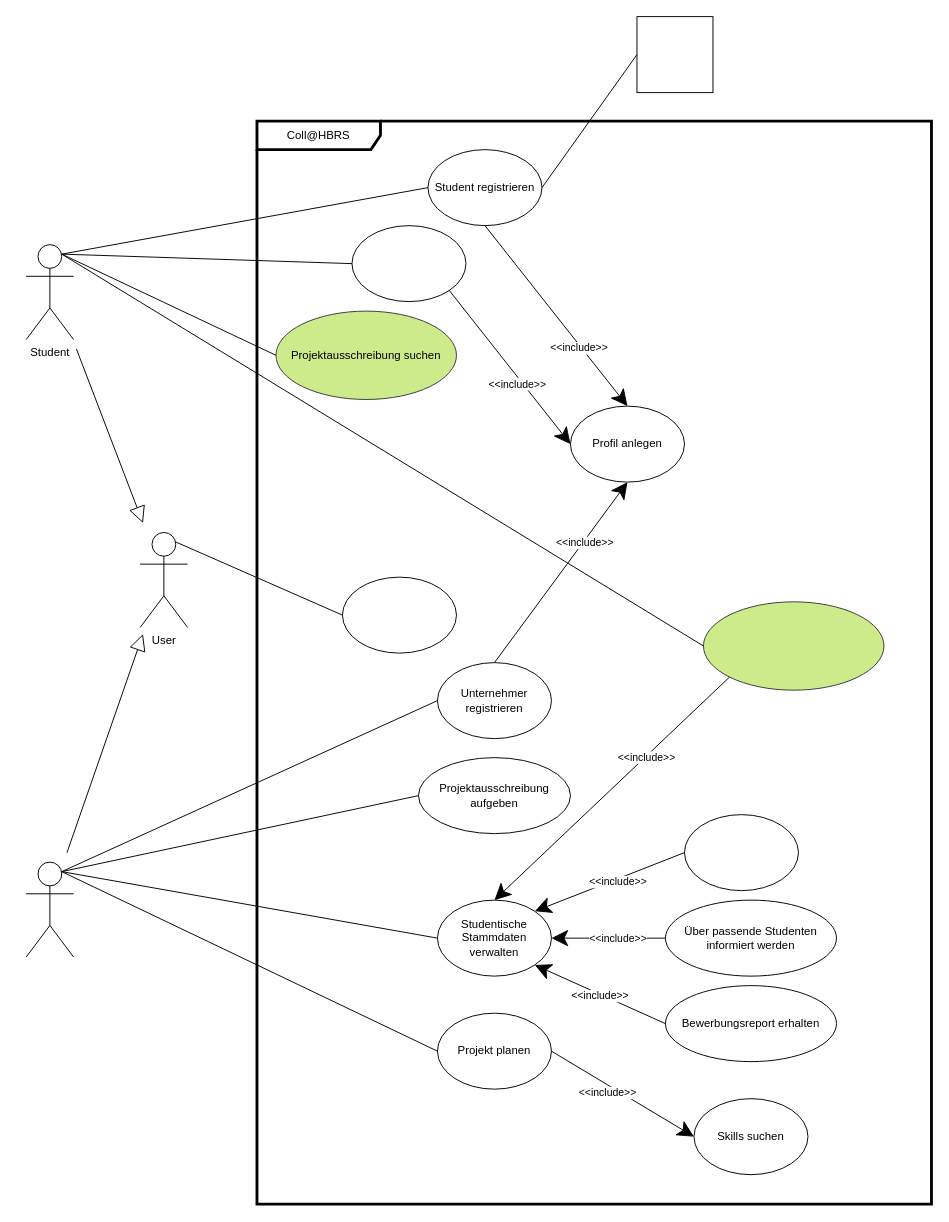
This 949x1222 diagram has some shape labels left out. Here are the shapes that lost their labels. From the top down, the centre of each, then its label:
At (x=674, y=54): "SIS".
At (x=408, y=263): "Skills verwalten".
At (x=399, y=614): "Benutzer anmelden (Login)".
At (x=793, y=645): "Auf Projektausschreibung bewerben".
At (x=741, y=852): "Bewerbungen verwalten".
At (x=49, y=909): "Unternehmer".
